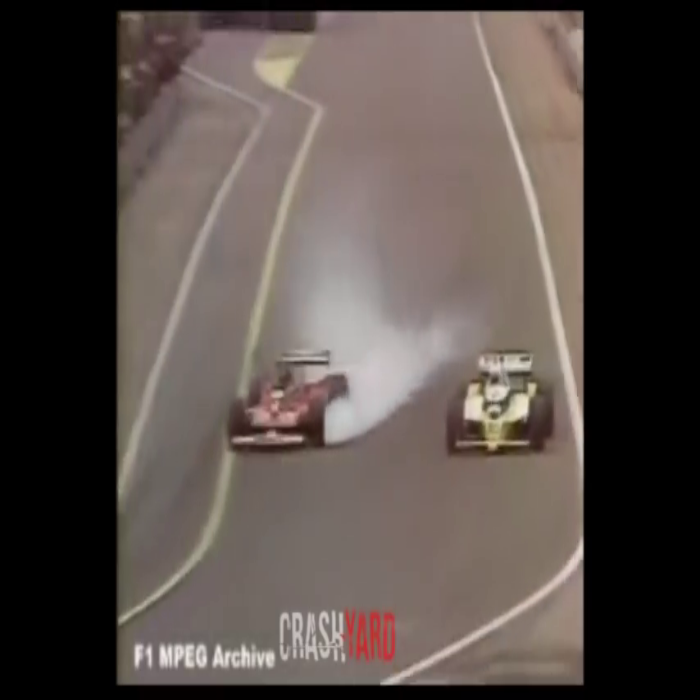f1_car: (225, 336, 358, 463), (444, 334, 556, 464)
